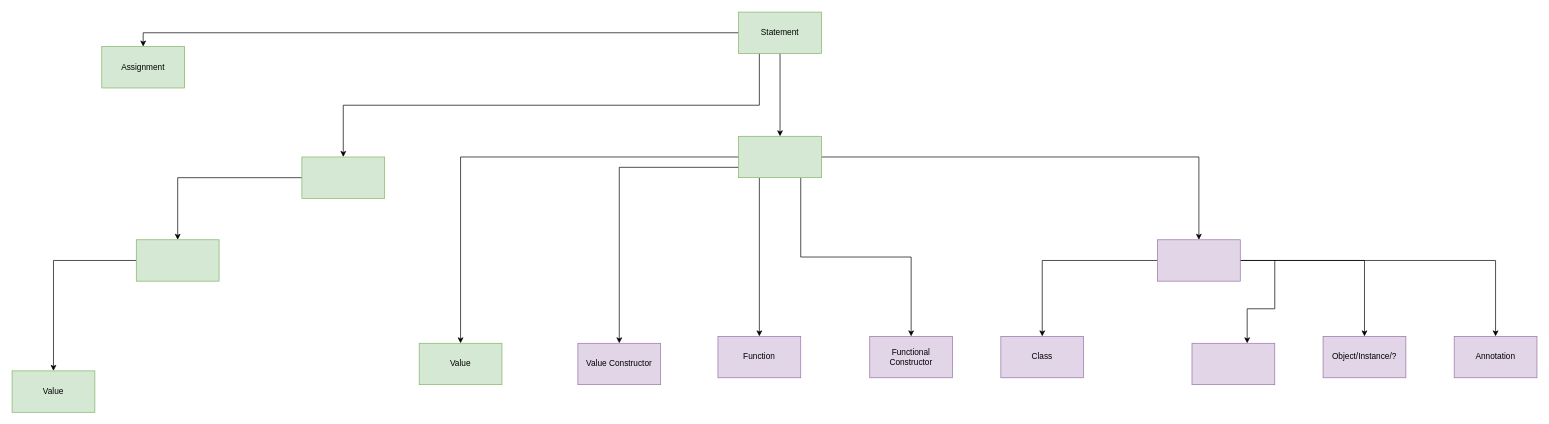
This 1549x424 diagram has some shape labels left out. Each missing label, with the centre of its shape:
"Aggregate" goes at point 343,177.
"Declaration" goes at point 779,157.
"Declaration with Initialization" goes at point 177,260.
"Interface/Trait" goes at point 1233,364.
"Type" goes at point 1198,260.
